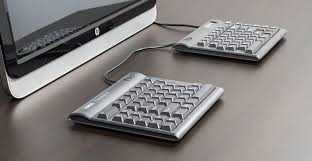keyboard: (65, 73, 226, 147)
